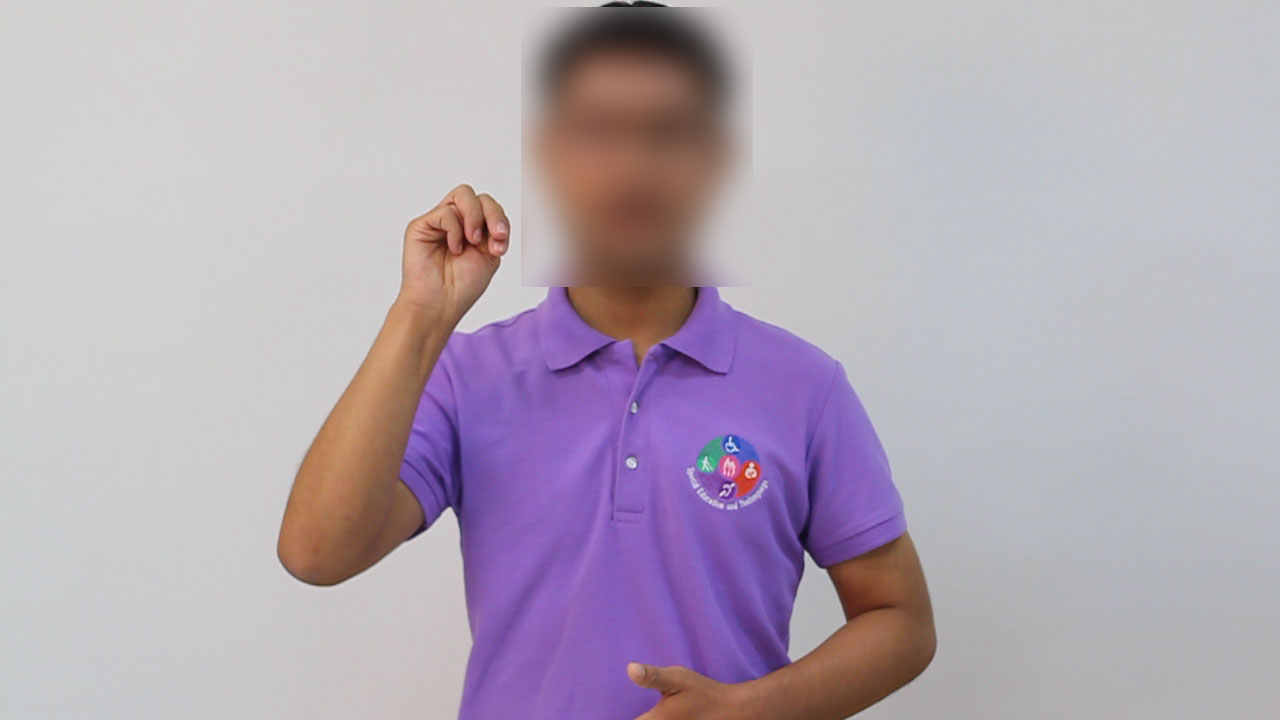mor: (395, 177, 514, 325)
